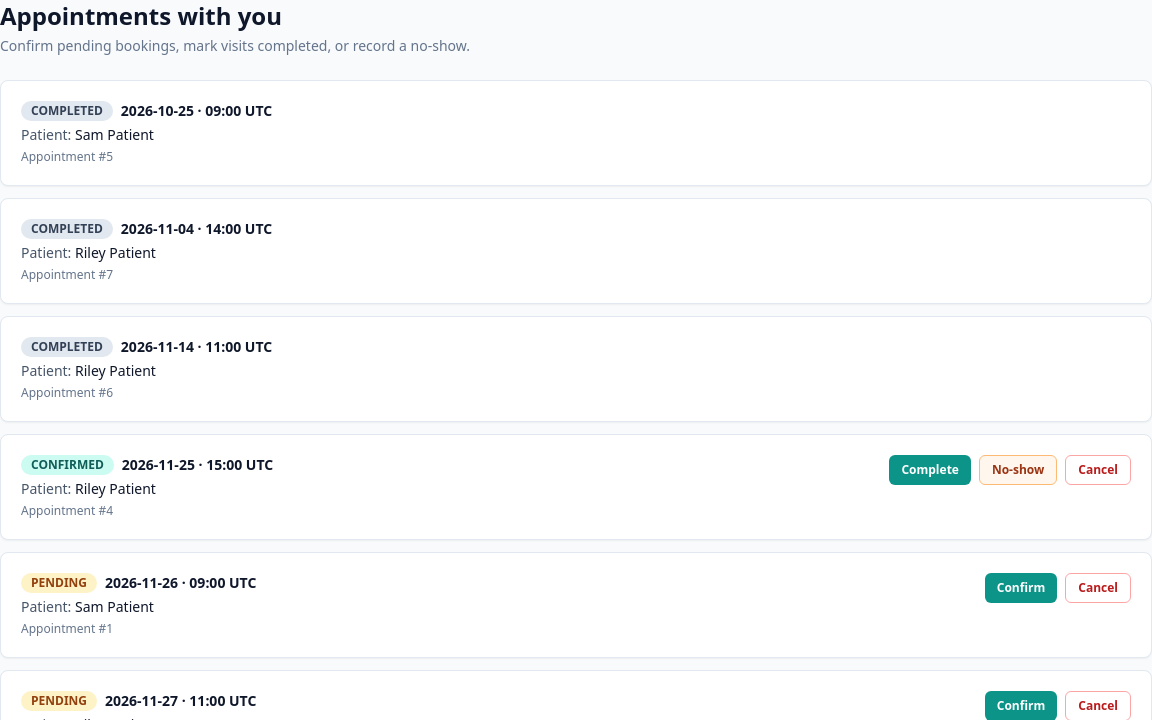
Scenario: MyAppointmentsPage › shows a doctor’s bookings and lets them confirm a pending appointment
Expected: the heading "Appointments with you" is shown, [0, 0, 282, 32]
Expected: the text "Riley Patient" below "2026-11-04 · 14:00 UTC" is shown, [75, 243, 156, 262]
Click the button with aria-label "confirm appointment 3" at (1021, 706), box [985, 691, 1057, 719]
(page scrolled)
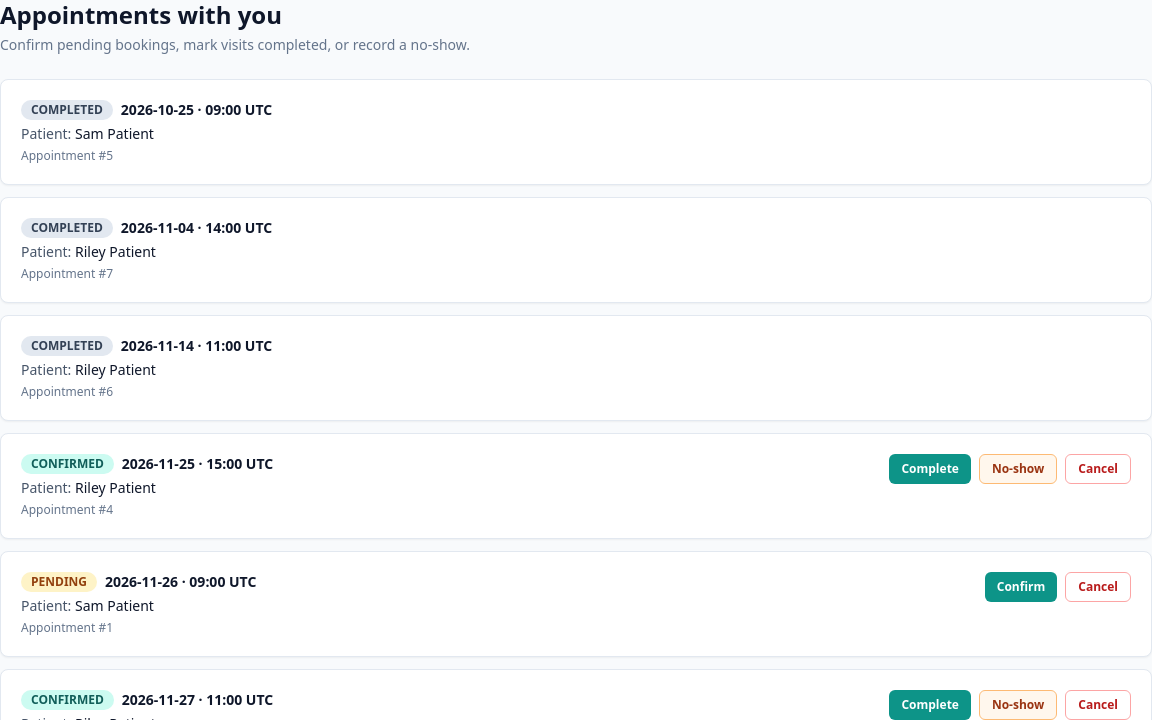
Expected: the button with aria-label "complete appointment 3" is shown, [889, 690, 971, 719]
